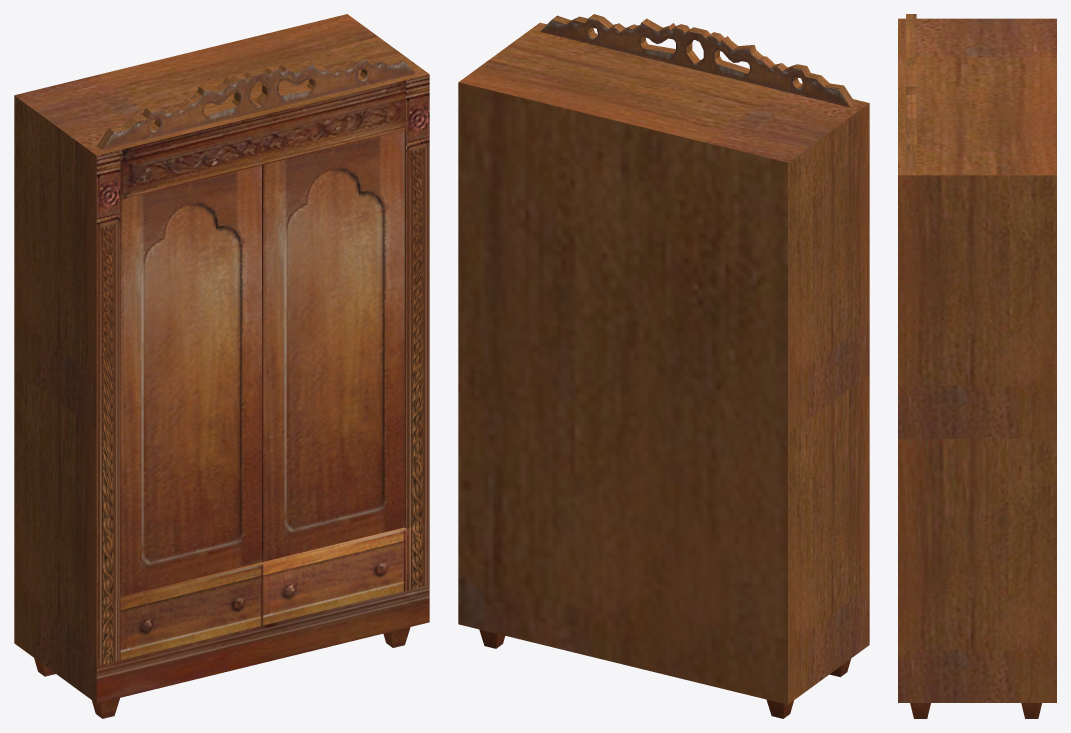
The model's file is wardrobe.fbx.
3 views of the same model, side by side, from view 1: azimuth 30°, elevation 25°; view 2: azimuth 150°, elevation 25°; view 3: azimuth 270°, elevation 25° (orthographic). The views are drawn at different scales.
Visible parts, largest first — view 1: mesh_0, mesh_2, mesh_1, mesh_8, mesh_7; view 2: mesh_0, mesh_8, mesh_7; view 3: mesh_0, mesh_7, mesh_8, mesh_5, mesh_4.
Boxes of the visible parts, box(x1,y1,x2,y2) form: mesh_0: box(14, 14, 429, 703); mesh_2: box(262, 130, 404, 562); mesh_1: box(120, 165, 261, 596); mesh_8: box(97, 70, 258, 150); mesh_7: box(254, 55, 415, 111); mesh_0: box(458, 22, 869, 704); mesh_8: box(695, 29, 855, 107); mesh_7: box(540, 14, 700, 69); mesh_0: box(898, 18, 1056, 702); mesh_7: box(906, 61, 916, 170); mesh_8: box(906, 14, 916, 60); mesh_5: box(1021, 703, 1041, 718); mesh_4: box(910, 703, 930, 718).
Bounding box in the file's own units: 140 × 245 × 60.
Materials: 1 (1 with a texture image).
